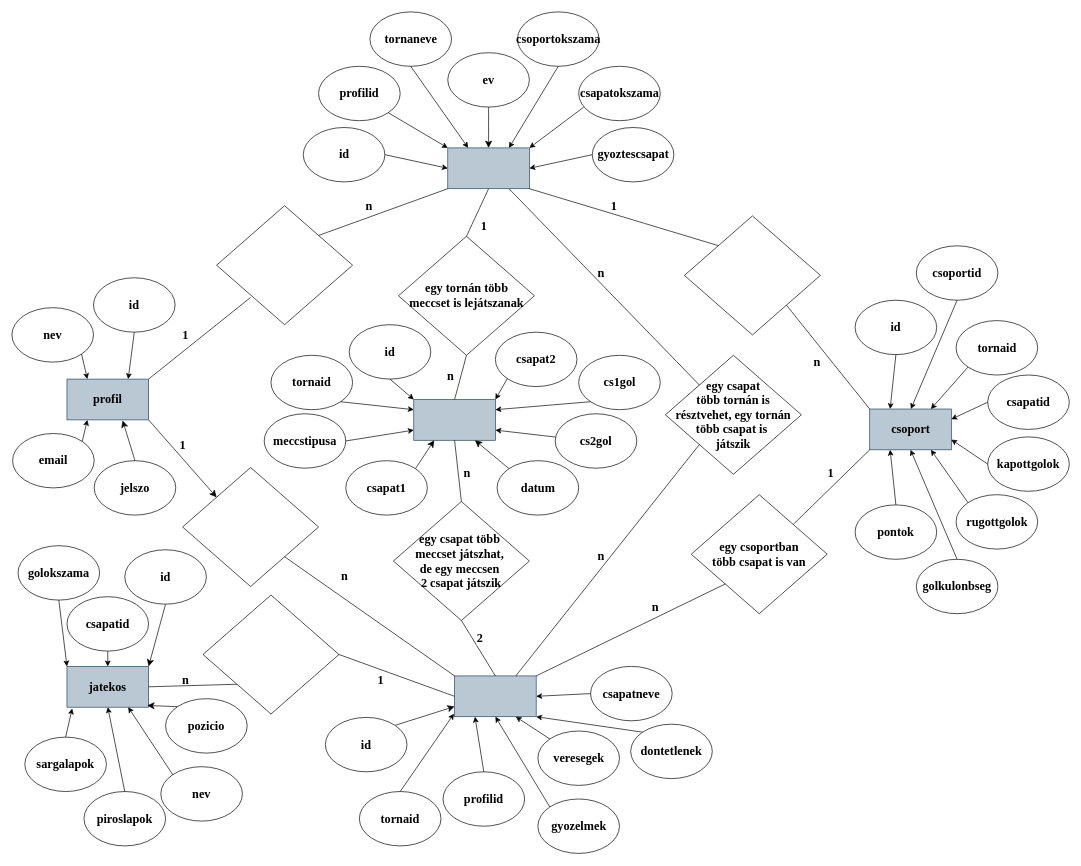
Some shapes in this 1081 by 866 pixel diagram are drawn without their labels. Here are the shapes that lost their labels. From the top down, the box of each, then its label:
(447, 147, 529, 189): torna
(216, 205, 353, 325): egy profilhoz több torna is tartozhat
(684, 215, 820, 335): egy tornán több csoport is részt vehet
(413, 399, 495, 440): meccs
(182, 467, 319, 586): egy profilhoz több csapat is tartozhat
(202, 594, 339, 714): egy játékos egy csapatba játszik, de egy csapatba több játékos van
(454, 675, 536, 717): csapat
